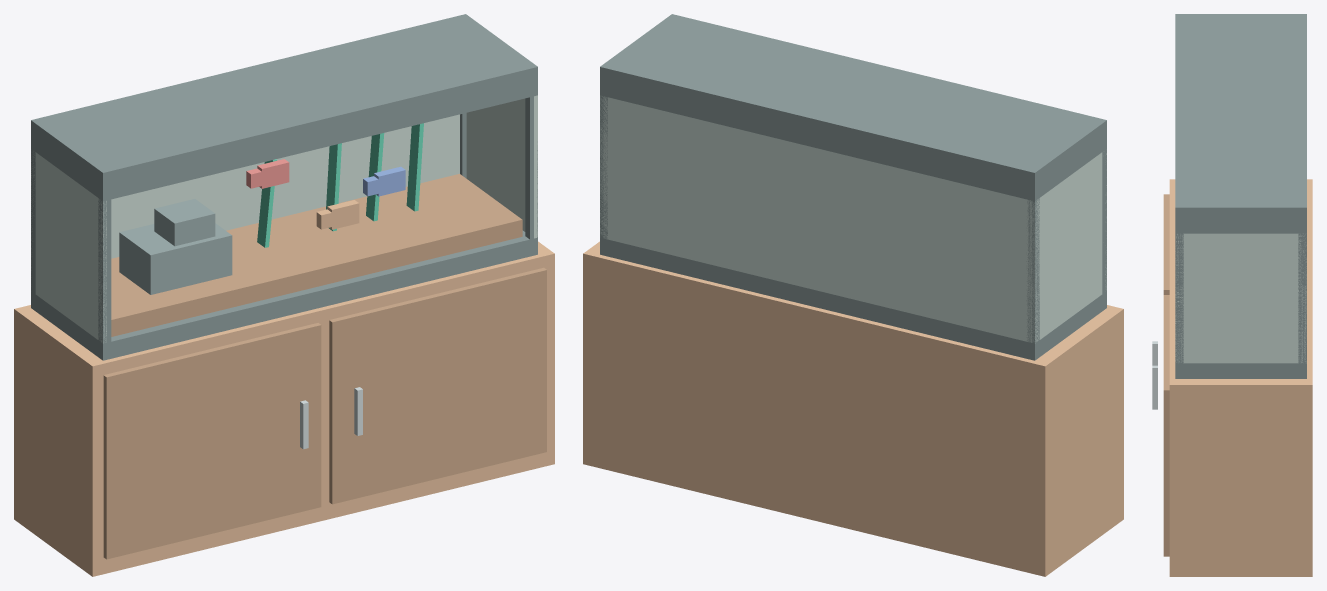
The model's file is aquarium.glb.
3 renders of one model, left to right at view 1: azimuth 30°, elevation 25°; view 2: azimuth 150°, elevation 25°; view 3: azimuth 270°, elevation 25°, orthographic. The views are drawn at different scales.
Parts seen in each view (by area): view 1: aquarium; view 2: aquarium; view 3: aquarium.
Part boxes in pixels (left/top/right/bottom): aquarium: left=14, top=14, right=554, bottom=576; aquarium: left=583, top=14, right=1123, bottom=576; aquarium: left=1152, top=14, right=1312, bottom=576.
Bounding box in the file's own units: 0.85 × 0.7 × 0.28.
